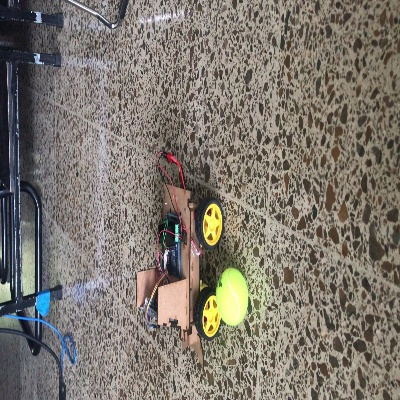Ball: (213, 267, 249, 327)
Robot: (137, 183, 223, 352)
